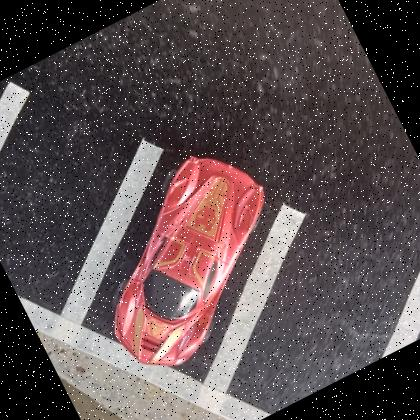Car: (112, 156, 266, 367)
